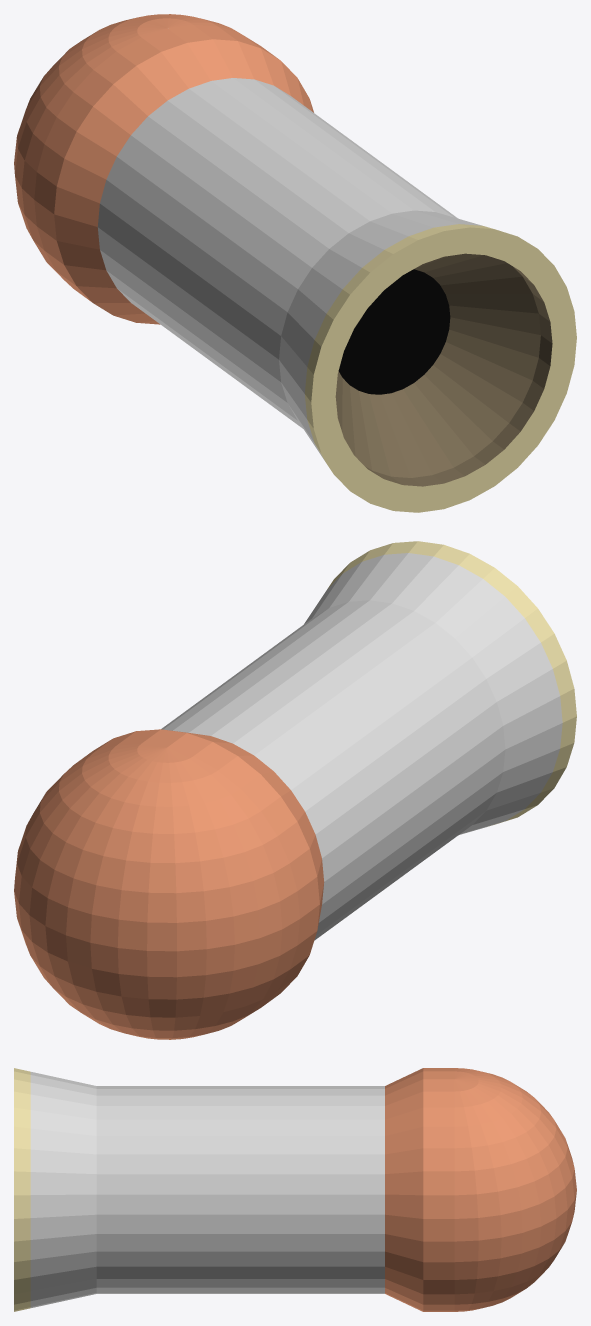
Rendered from Cannon.fbx.
3 views of the same model, one above another, from view 1: azimuth 30°, elevation 25°; view 2: azimuth 150°, elevation 25°; view 3: azimuth 270°, elevation 25° (orthographic). The views are drawn at different scales.
Visible parts, largest first — view 1: Cylinder; view 2: Cylinder; view 3: Cylinder.
Boxes of the visible parts, x1,y1,x2,y2 form: Cylinder: (14, 14, 576, 512); Cylinder: (14, 541, 576, 1039); Cylinder: (14, 1068, 576, 1311).
Size of the model in its own units: 200 by 461 by 200.
